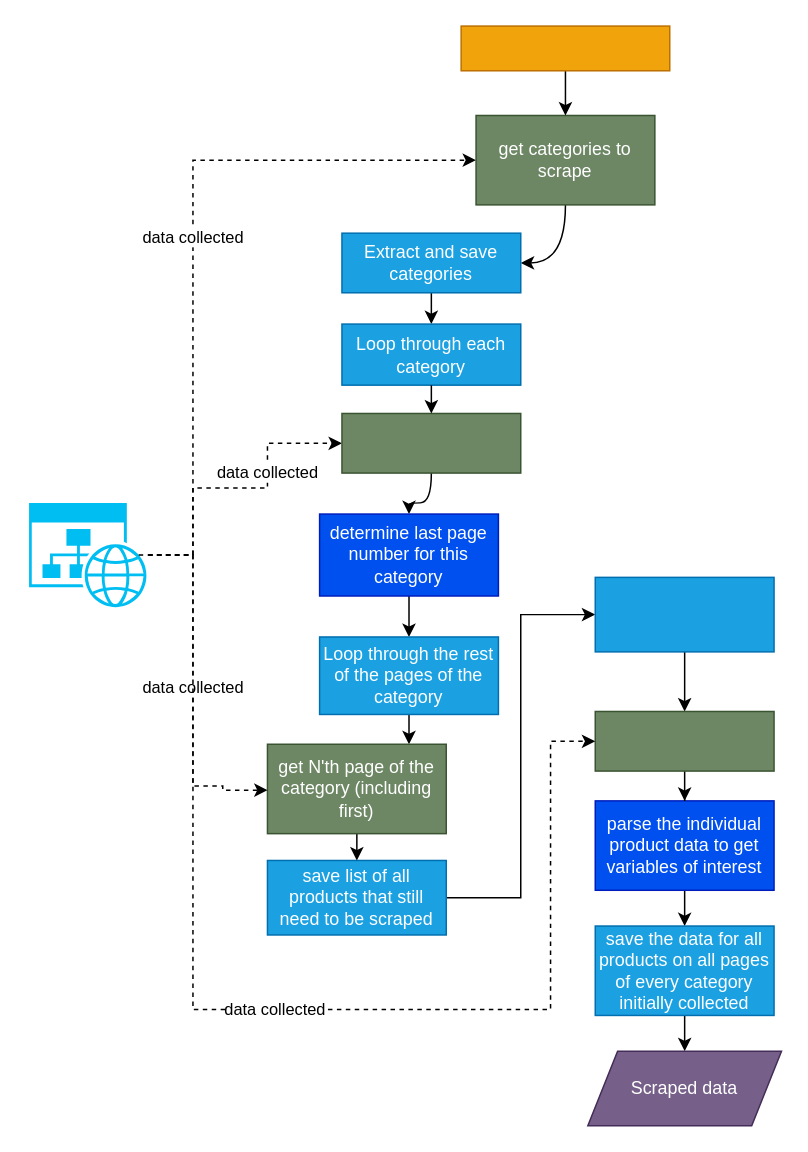
Image size: 808x1152. Some labels were removed from this diagram. Each missing label, with the box of its shape:
get page 1 of each category page: (340, 412, 521, 473)
get product page: (594, 710, 774, 771)
loop through each product URL: (594, 576, 774, 652)
Retailer website: (28, 502, 148, 606)
start the scraper: (460, 25, 670, 71)
